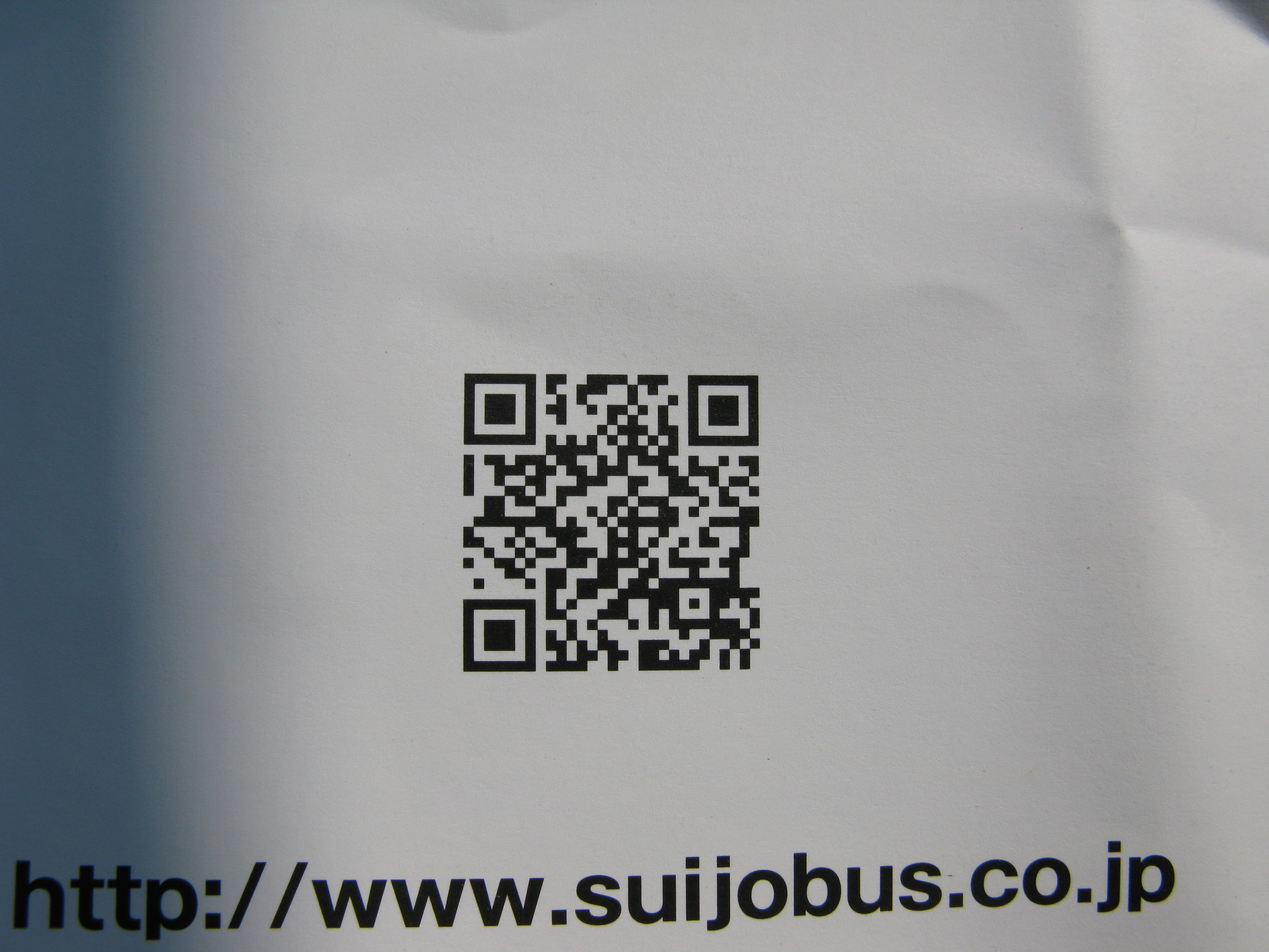QR-CODE: (463, 374, 760, 671)
